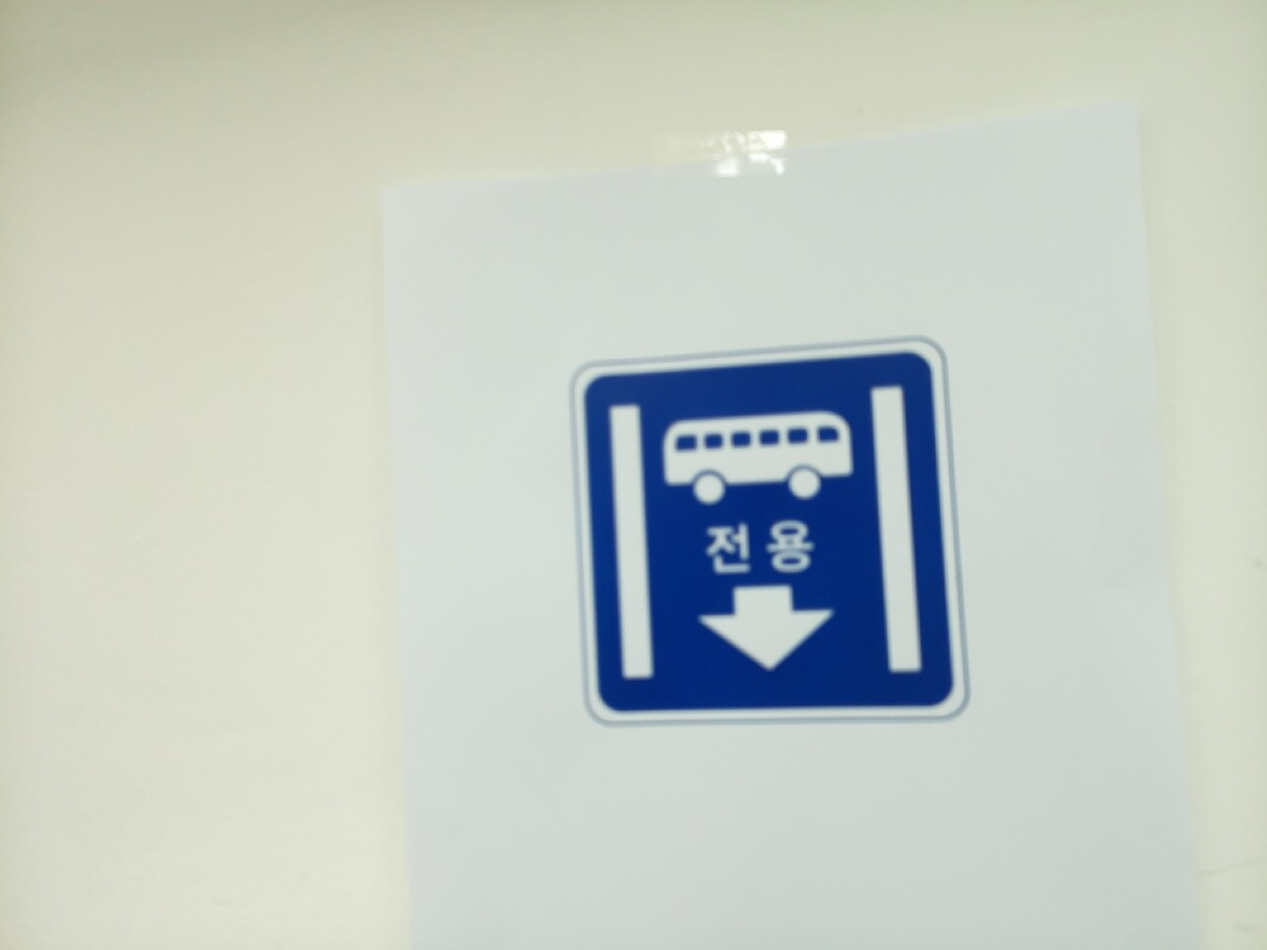bus_only_lane: (573, 341, 964, 722)
